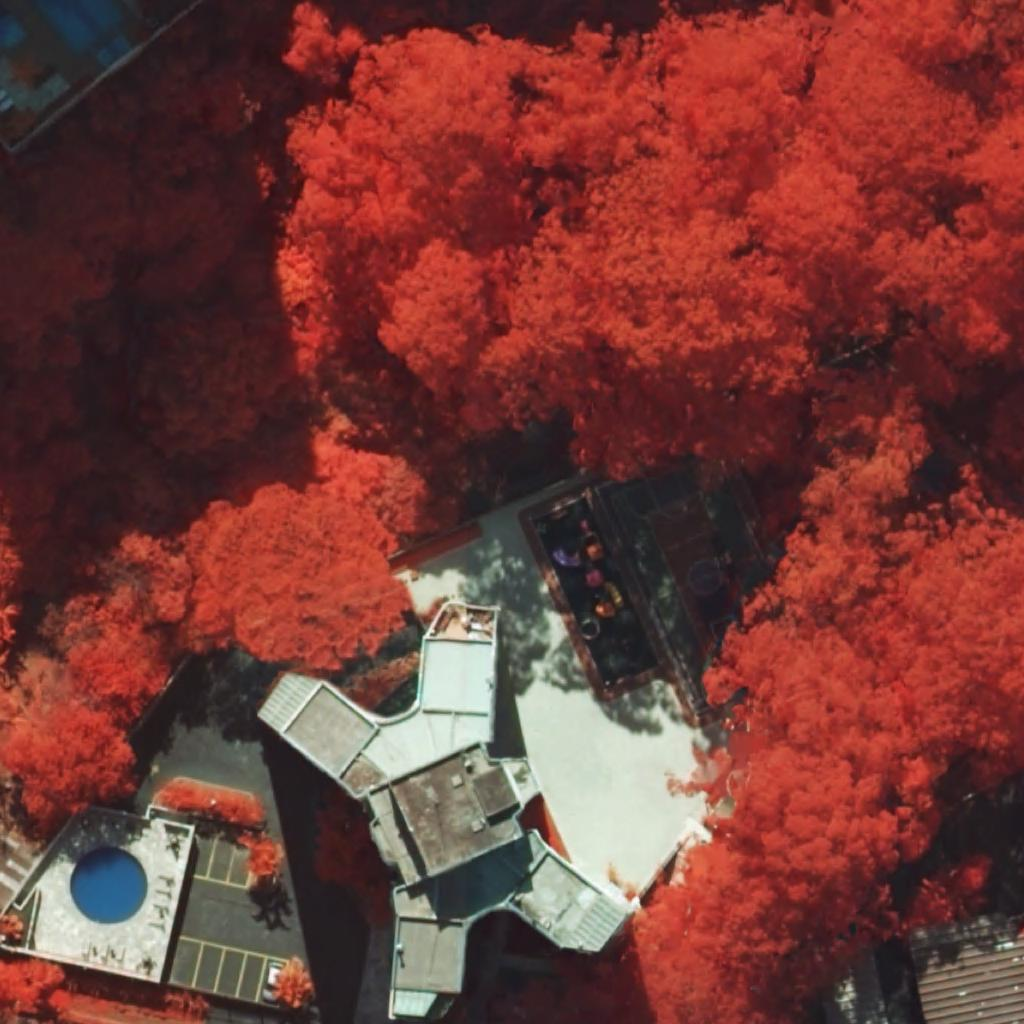pool: (69, 845, 149, 925), (35, 0, 124, 54)
